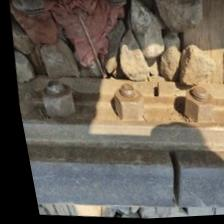person: (125, 145, 212, 218), (138, 78, 167, 104)
